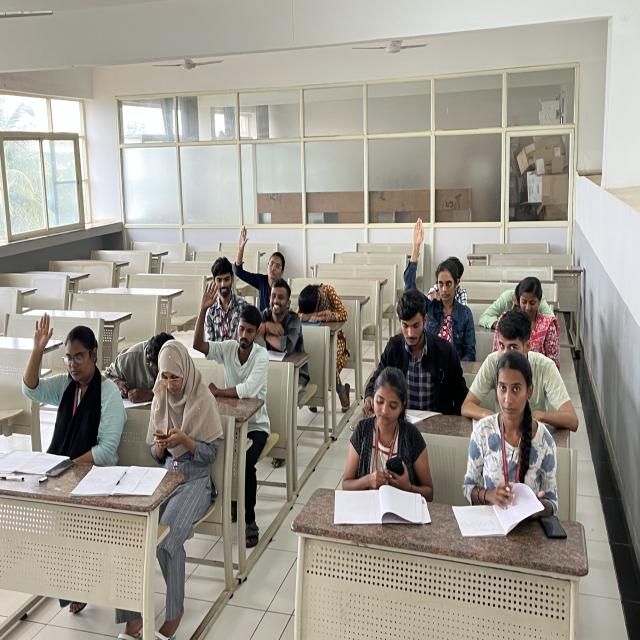Hand Rising: (18, 307, 127, 475), (394, 211, 490, 369), (193, 285, 292, 433), (233, 219, 314, 323)
Sleeping: (113, 316, 219, 438), (294, 255, 372, 371)
Using Phone: (127, 341, 237, 530), (341, 374, 453, 528)
